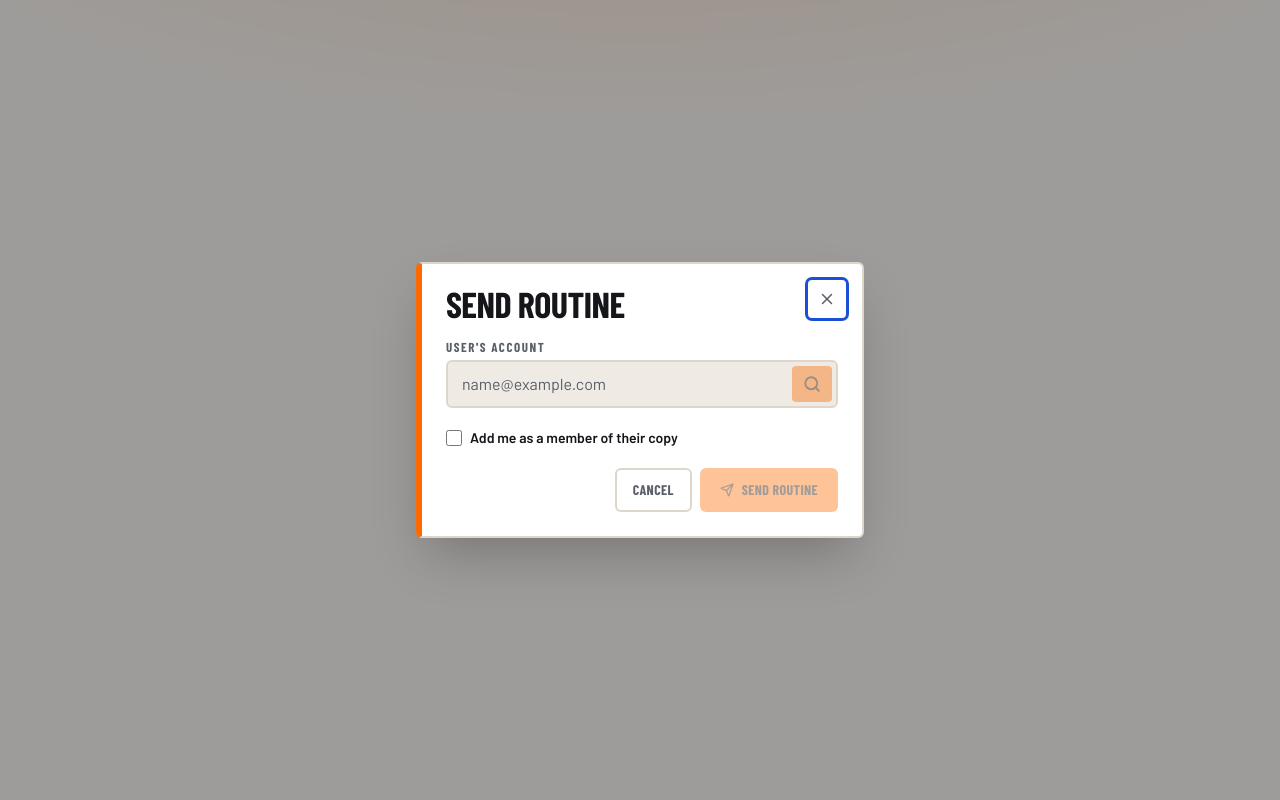
Scenario: SendRoutineModal › forgets the check on an edit and gets it back on the same address
The width and height of the screenshot is (1280, 800).
Type "ada@example.com" into the field labelled "User's account".
click(618, 384); type("ada@example.com")  # box [448,362,788,406]
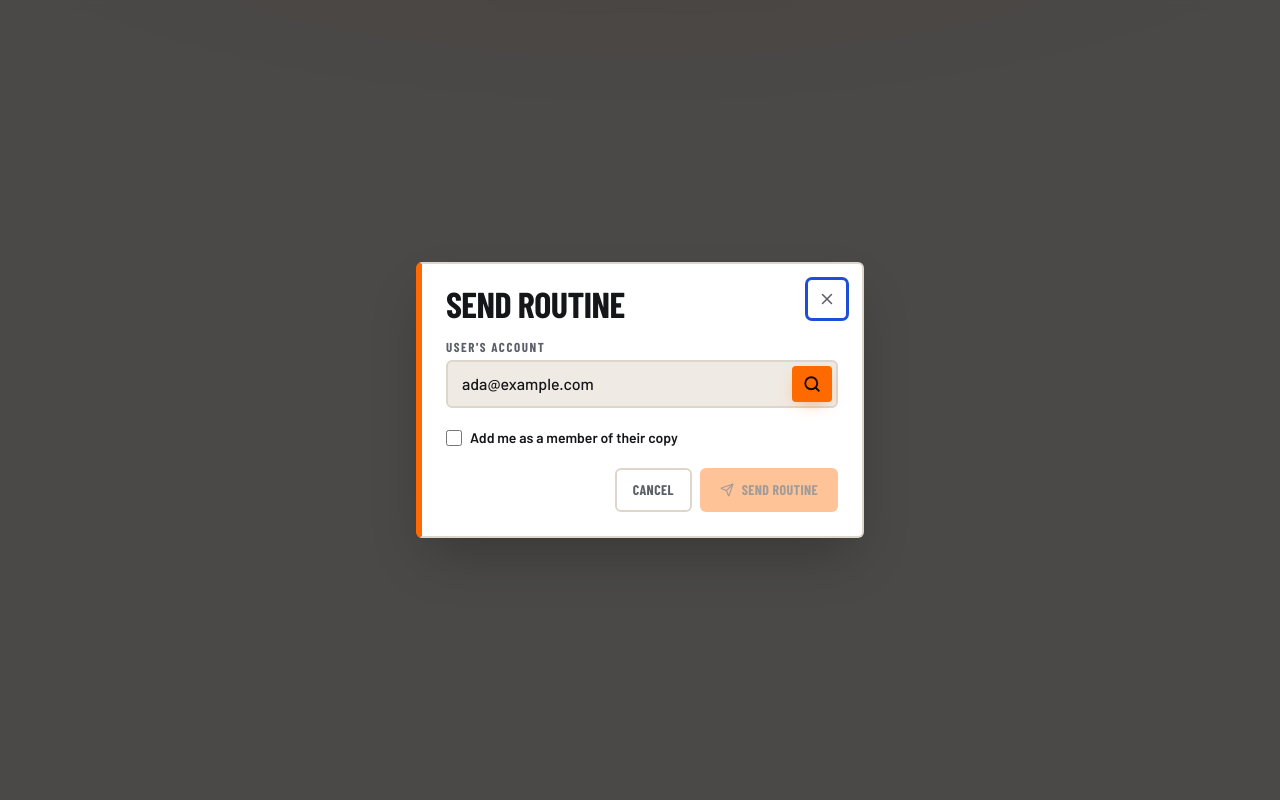
Click the button named "Search".
click(812, 384)  # box [792,366,832,402]
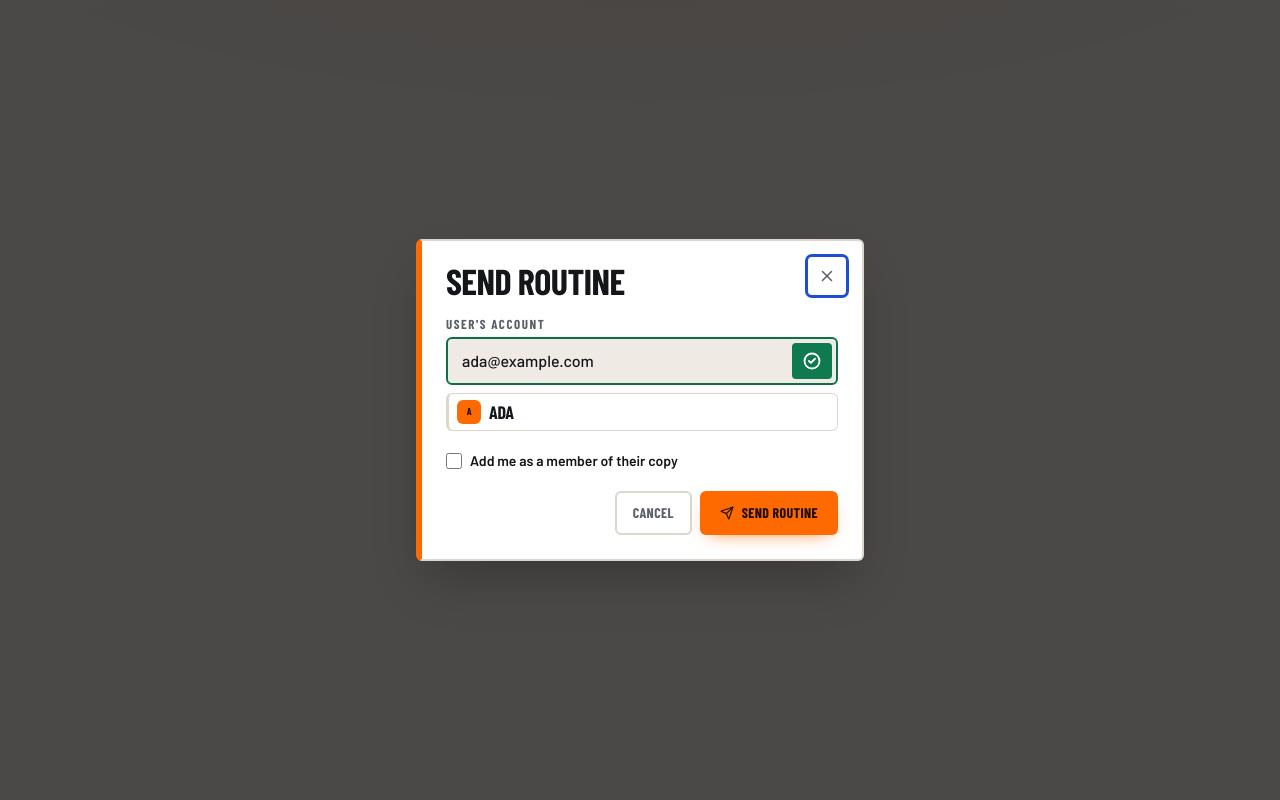
Now the picture named "Person found" is shown, box [803,352,821,370]
Replace the text in the field labelled "User's account" with "ada@example.co" at (618,361), box [448,339,788,383]
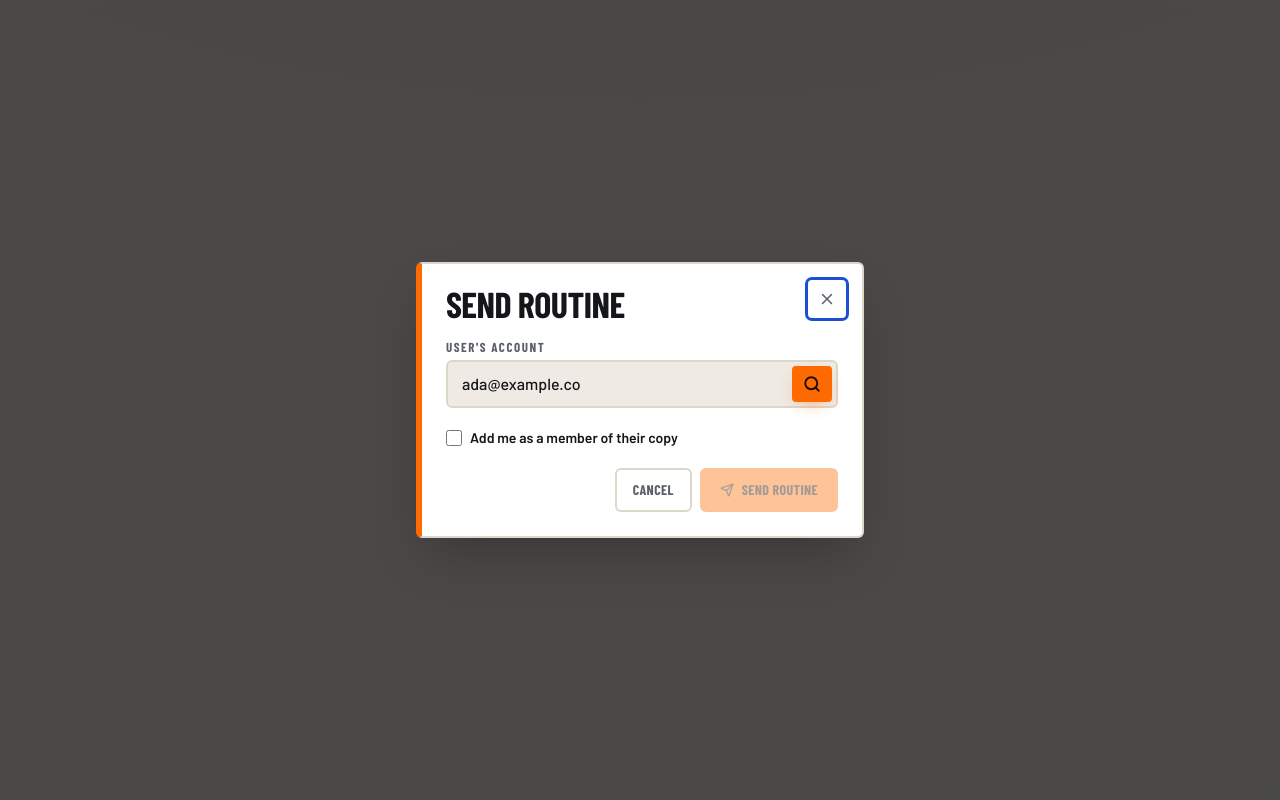
Now the button named "Search" is enabled, box [792,366,832,402]
Now the button "Send routine" is disabled, box [700,468,838,512]
Replace the text in the field labelled "User's account" with "ada@example.com" at (618,384), box [448,362,788,406]
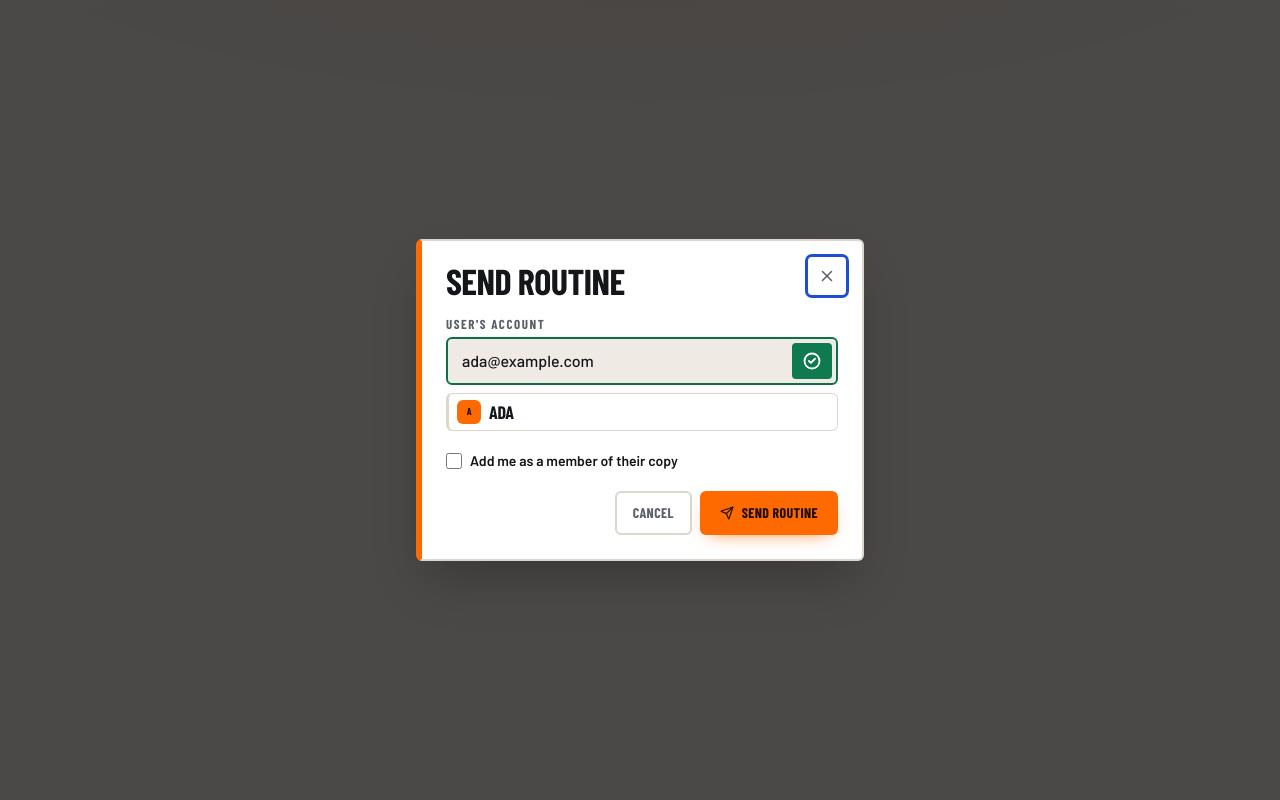
Now the picture named "Person found" is shown, box [803,352,821,370]
